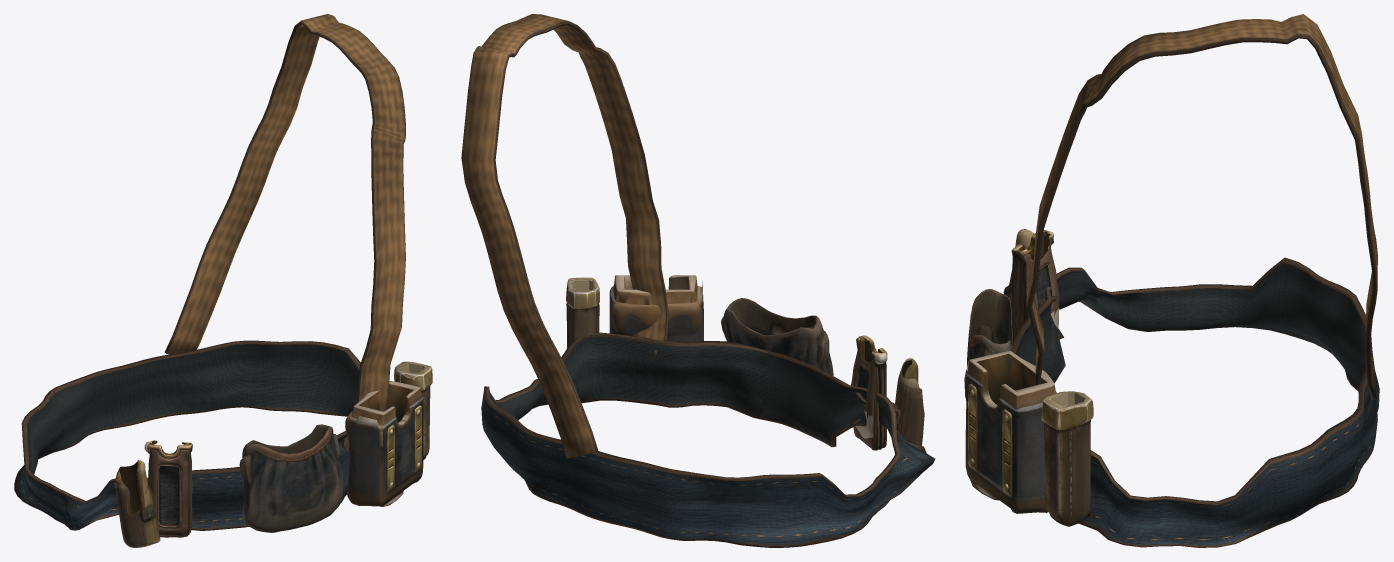
The model's file is Assembled-v2.glb.
3 views of the same model, side by side, from view 1: azimuth 30°, elevation 25°; view 2: azimuth 150°, elevation 25°; view 3: azimuth 270°, elevation 25° (orthographic). The views are drawn at different scales.
Parts seen in each view (by area): view 1: BeltBodyV2, SoftPouch, WoodCase, FlatSleeve, PenSleeve, TallSleeve; view 2: BeltBodyV2, SoftPouch, WoodCase, FlatSleeve, TallSleeve, PenSleeve; view 3: BeltBodyV2, WoodCase, TallSleeve, FlatSleeve, SoftPouch.
Part boxes in pixels (x1,y1,x2,y2): BeltBodyV2: [14, 14, 405, 530]; SoftPouch: [239, 424, 343, 532]; WoodCase: [345, 381, 423, 506]; FlatSleeve: [144, 440, 192, 537]; PenSleeve: [115, 460, 160, 547]; TallSleeve: [394, 361, 432, 459]; BeltBodyV2: [461, 14, 935, 547]; SoftPouch: [721, 298, 833, 375]; WoodCase: [609, 275, 703, 341]; FlatSleeve: [851, 335, 887, 450]; TallSleeve: [566, 277, 599, 348]; PenSleeve: [895, 358, 924, 445]; BeltBodyV2: [1012, 14, 1379, 547]; WoodCase: [964, 351, 1056, 513]; TallSleeve: [1041, 391, 1093, 526]; FlatSleeve: [1011, 230, 1059, 341]; SoftPouch: [967, 289, 1012, 366].
Bounding box in the file's own units: 0.3637 × 0.3751 × 0.28.
6 materials, 6 textured.
